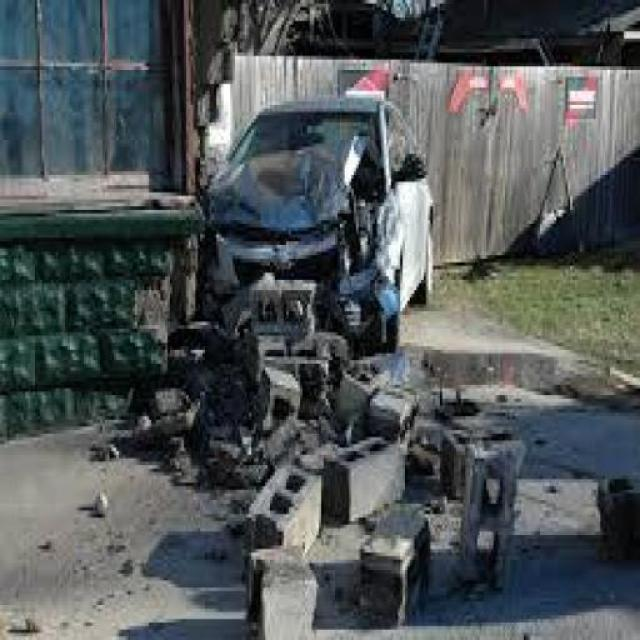crush: (204, 136, 400, 334)
